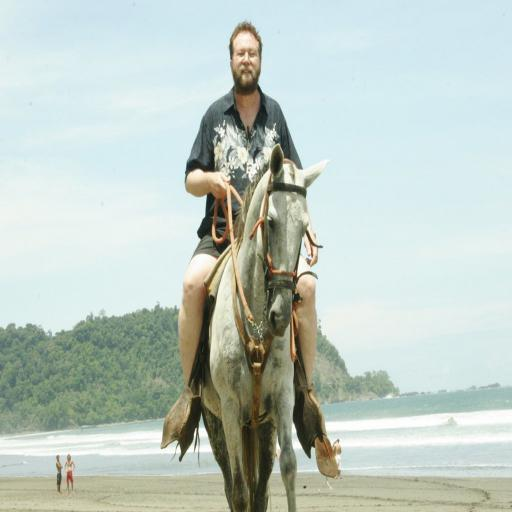Horse: (196, 140, 332, 511)
